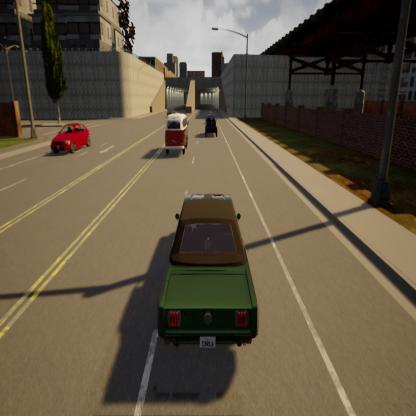Cars: (153, 190, 261, 354), (50, 116, 93, 161), (158, 110, 192, 160), (203, 112, 221, 141)
